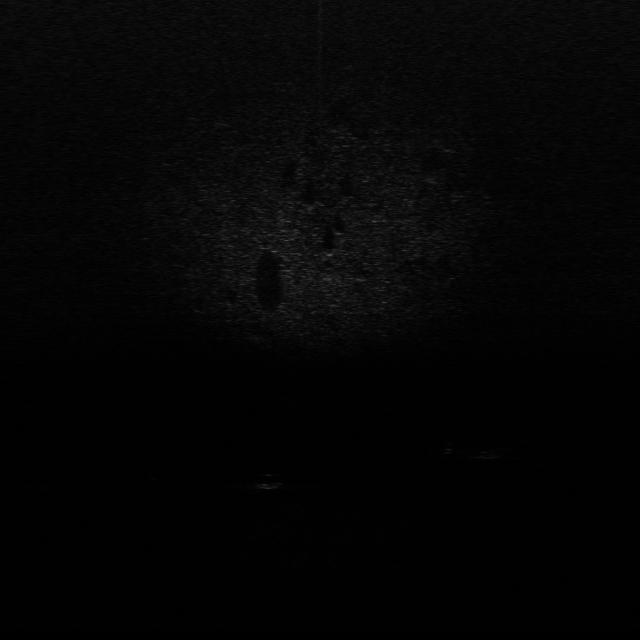ball: (253, 469, 283, 491)
human body: (440, 438, 530, 460)
